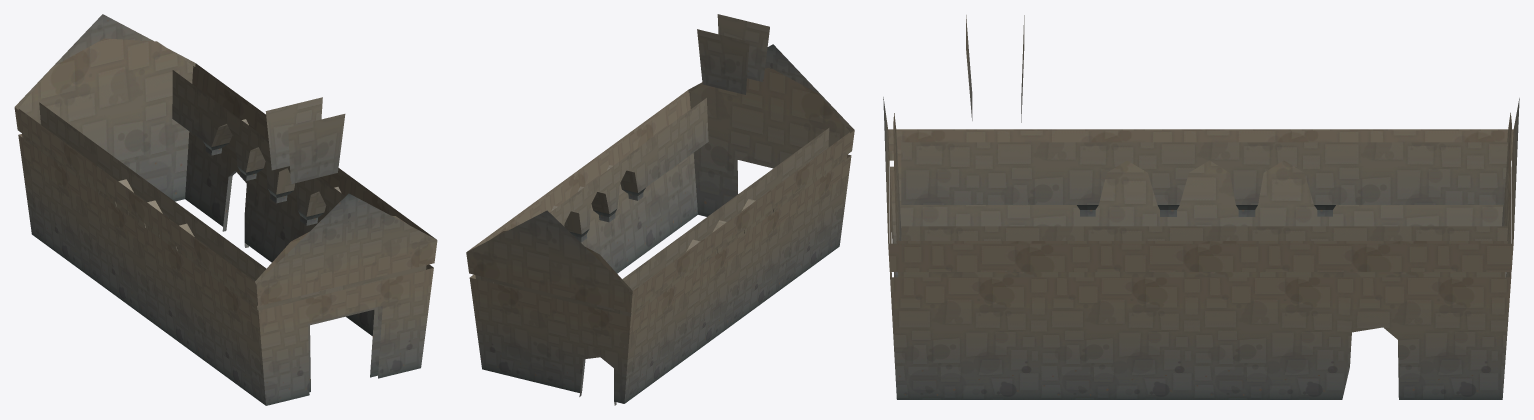
Rendered from Combined_Mesh_root_scene__14_f2bde634__churchyard_diffuse_08_35608974_c1f257.obj.
3 renders of one model, left to right at view 1: azimuth 30°, elevation 25°; view 2: azimuth 150°, elevation 25°; view 3: azimuth 270°, elevation 25°, orthographic. The views are drawn at different scales.
Size of the model in its own units: 16.35 by 21.71 by 38.47.
2 materials, 2 textured.
